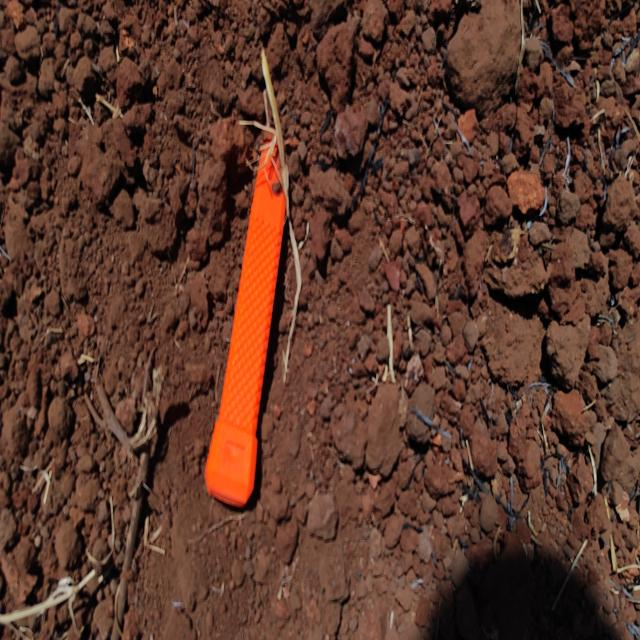Orange_hammer: (203, 48, 291, 509)
rock: (445, 3, 522, 96), (367, 376, 406, 494), (539, 309, 593, 394), (597, 167, 640, 247), (507, 164, 547, 221), (50, 512, 84, 567)
